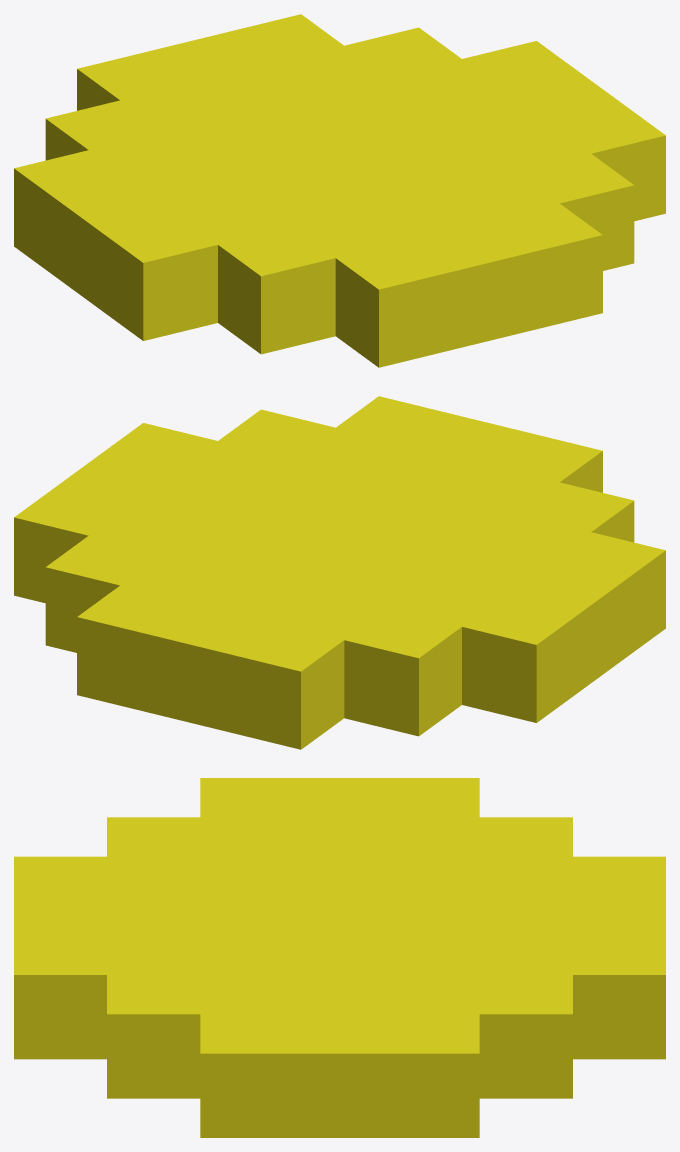
Rendered from voxel_coin_gold.fbx.
3 views of the same model, one above another, from view 1: azimuth 30°, elevation 25°; view 2: azimuth 150°, elevation 25°; view 3: azimuth 270°, elevation 25° (orthographic). The views are drawn at different scales.
Visible parts, largest first — view 1: Cube; view 2: Cube; view 3: Cube.
Boxes of the visible parts, x1=… form: Cube: x1=14, y1=14, x2=665, y2=367; Cube: x1=14, y1=396, x2=665, y2=749; Cube: x1=14, y1=778, x2=665, y2=1137.
Size of the model in its own units: 1.4 by 0.2 by 1.4.
